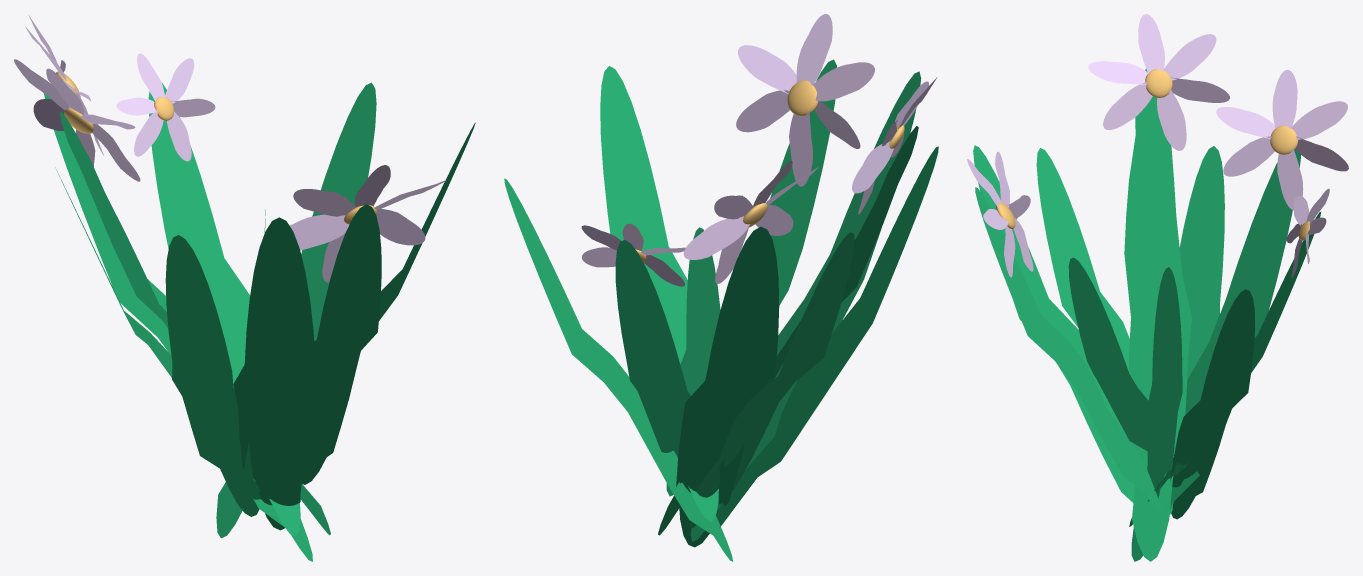
Rendered from onrkuidmetbloemen.fbx.
The picture shows the model from 3 angles, left to right: view 1: azimuth 30°, elevation 25°; view 2: azimuth 150°, elevation 25°; view 3: azimuth 270°, elevation 25°; orthographic projection. The views are drawn at different scales.
Parts seen in each view (by area): view 1: Circle.031, Circle.029, Circle.001, Circle.002, Circle.030, Circle.003, Circle, Circle.033, Circle.024, Circle.026, Circle.023, Circle.028 (+11 smaller); view 2: Circle.003, Circle.033, Circle.029, Circle.002, Circle.028, Circle.030, Circle.031, Circle.001, Circle.032, Circle, Circle.027, Circle.022 (+12 smaller); view 3: Circle, Circle.030, Circle.028, Circle.003, Circle.001, Circle.033, Circle.029, Circle.032, Circle.031, Circle.002, Circle.008, Circle.011 (+12 smaller).
Boxes of the visible parts, <box> form: Circle.031: <box>233,217,315,530</box>; Circle.029: <box>165,235,260,516</box>; Circle.001: <box>301,204,381,484</box>; Circle.002: <box>148,82,300,536</box>; Circle.030: <box>216,82,376,538</box>; Circle.003: <box>43,93,312,561</box>; Circle: <box>59,111,330,535</box>; Circle.033: <box>379,122,475,320</box>; Circle.024: <box>290,214,349,250</box>; Circle.026: <box>376,209,425,245</box>; Circle.023: <box>293,189,355,216</box>; Circle.028: <box>55,167,255,481</box>; Circle.003: <box>676,226,779,547</box>; Circle.033: <box>600,66,718,521</box>; Circle.029: <box>716,146,938,527</box>; Circle.002: <box>615,240,690,456</box>; Circle.028: <box>690,232,854,527</box>; Circle.030: <box>504,178,732,561</box>; Circle.031: <box>690,71,921,541</box>; Circle.001: <box>666,59,836,496</box>; Circle.032: <box>680,227,720,395</box>; Circle: <box>658,126,918,535</box>; Circle.027: <box>738,45,796,93</box>; Circle.022: <box>796,14,832,85</box>; Circle: <box>1124,68,1192,561</box>; Circle.030: <box>1170,289,1254,519</box>; Circle.028: <box>1170,146,1224,511</box>; Circle.003: <box>1131,149,1300,561</box>; Circle.001: <box>975,187,1161,514</box>; Circle.033: <box>1068,257,1177,474</box>; Circle.029: <box>1036,148,1172,514</box>; Circle.032: <box>1147,267,1182,497</box>; Circle.031: <box>973,145,1134,502</box>; Circle.002: <box>1129,211,1321,526</box>; Circle.008: <box>1163,34,1216,80</box>; Circle.011: <box>1291,101,1347,139</box>.
Bounding box in the file's own units: 86.42 × 118 × 91.71.
